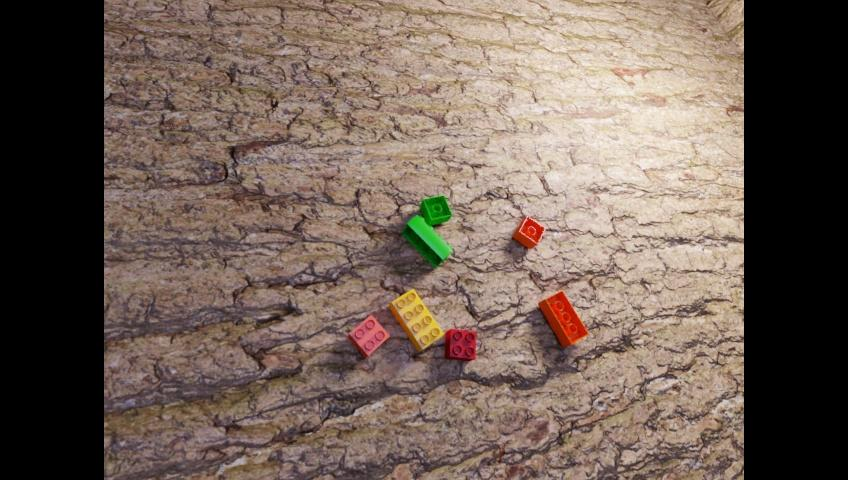2x2_green: (419, 194, 451, 225)
2x2_orange: (347, 314, 388, 357), (513, 215, 544, 249)
2x2_red: (444, 328, 475, 361)
4x2_green: (401, 214, 451, 268)
4x2_orange: (538, 290, 588, 346)
4x2_yellow: (388, 288, 442, 351)
